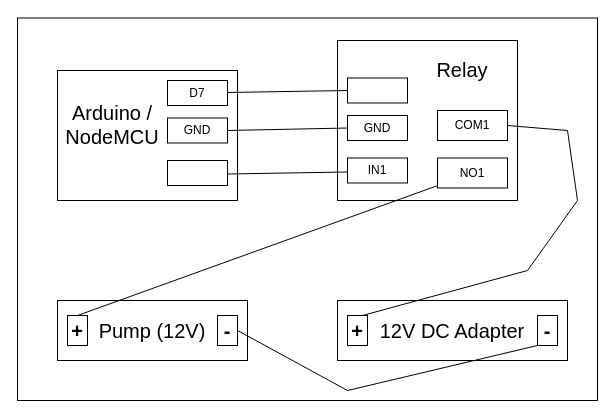
This 615x418 diagram has some shape labels left out. Here are the shapes that lost their labels. From the top down, the centre of each, then its label:
At pixel 377 90: "VCC".
At pixel 197 173: "5V / VIN".
